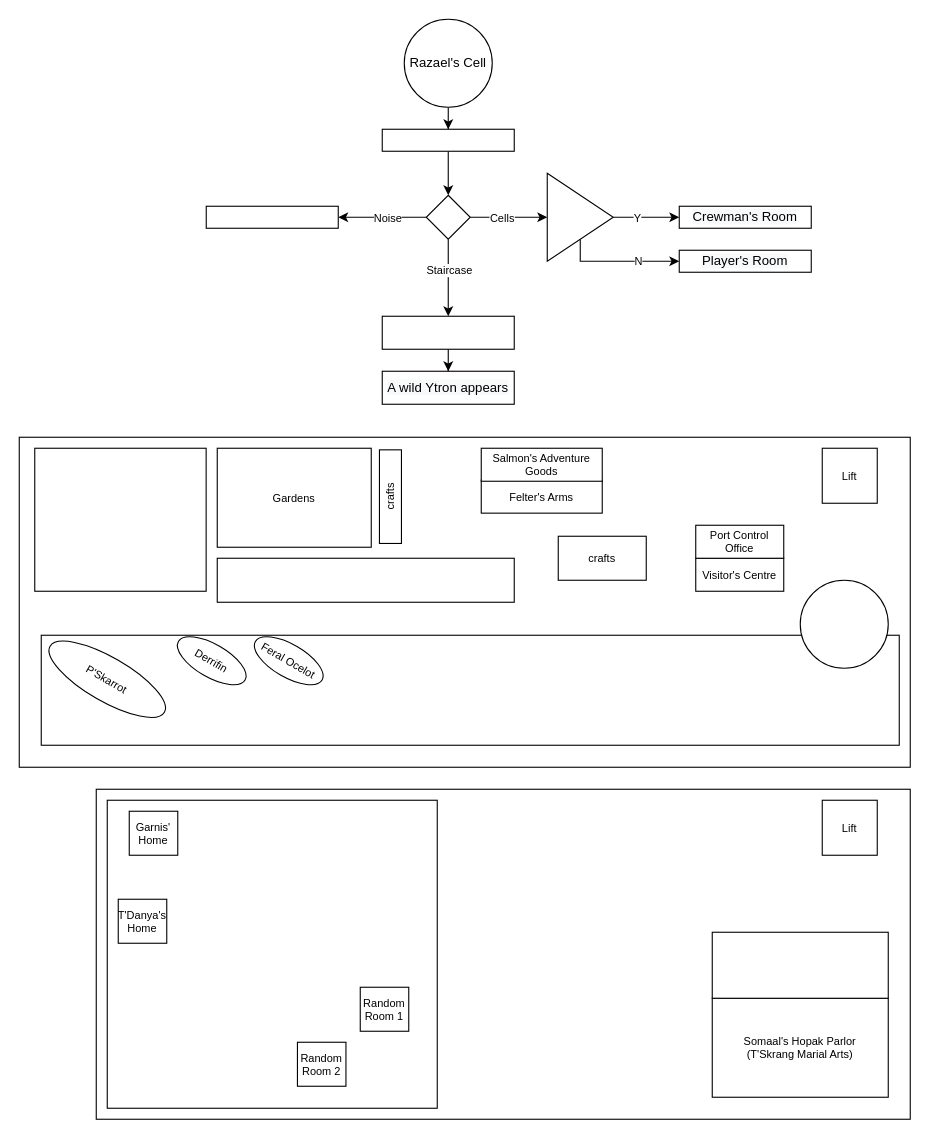
This 930x1139 diagram has some shape labels left out. The shapes that lost their labels are listed below. From the top down, each one's box as (x1, y1, x2, y2) in pixels, then its label:
(381, 128, 514, 151): Sealed Door
(205, 205, 338, 228): Poker Game
(546, 172, 613, 261): 1st Time?
(381, 315, 514, 349): Crewman at railing
(34, 447, 206, 591): Warehouse
(216, 557, 514, 602): Meekl's Riverside Tavern
(799, 579, 888, 668): The Merry Mule airship
(40, 634, 899, 745): Liaj River
(106, 799, 437, 1108): The Warrens
(711, 931, 888, 998): Meekl's Undercurrent Tavern
